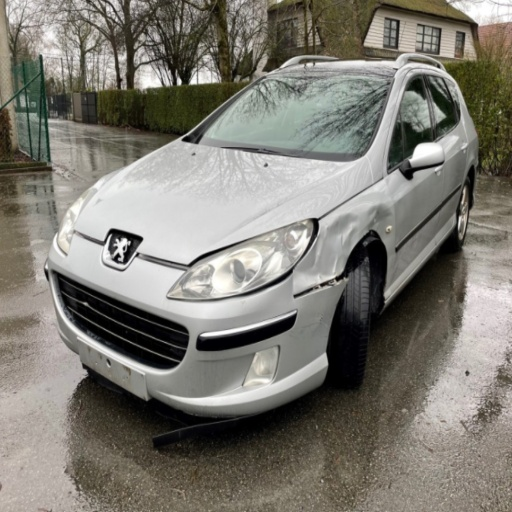dent: (294, 179, 395, 297), (386, 251, 411, 290), (409, 234, 421, 251)
rust: (87, 347, 92, 354)
scratch: (294, 323, 329, 330)
